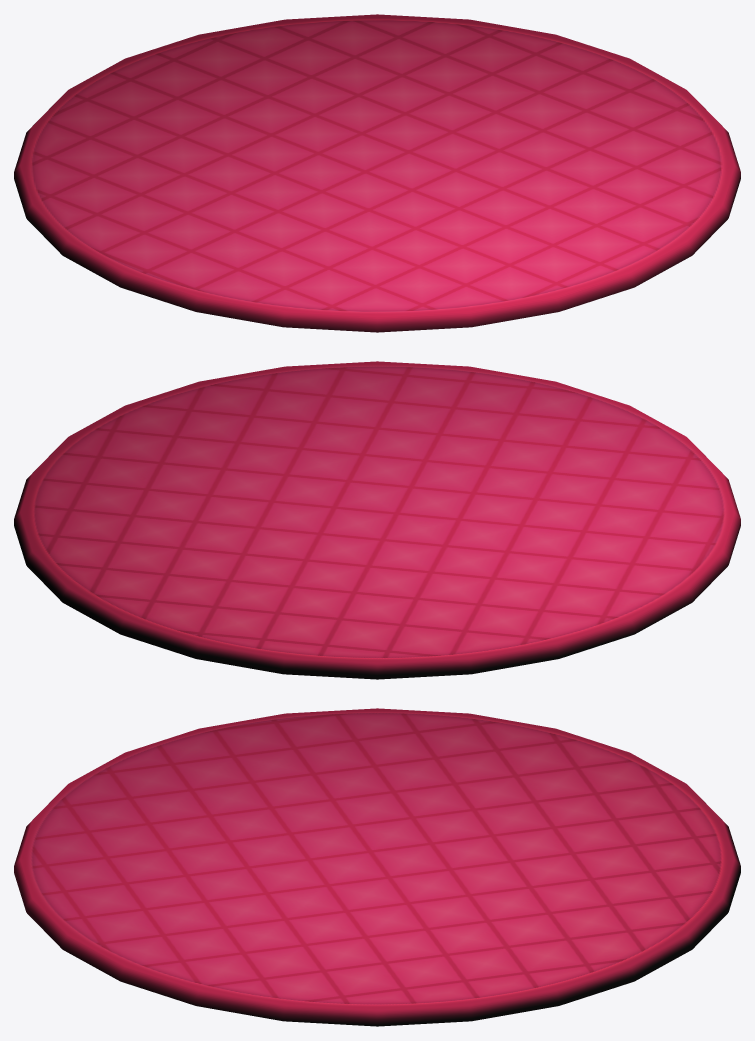
File: rug.FBX
The picture shows the model from 3 angles, top to bottom: view 1: azimuth 30°, elevation 25°; view 2: azimuth 150°, elevation 25°; view 3: azimuth 270°, elevation 25°; orthographic projection.
Visible parts, largest first — view 1: rug; view 2: rug; view 3: rug.
Part boxes in pixels (left/top/right/bottom): rug: left=14, top=14, right=740, bottom=332; rug: left=14, top=361, right=740, bottom=679; rug: left=14, top=708, right=740, bottom=1026.
Bounding box in the file's own units: 0.0493 × 0.0493 × 0.00102.
